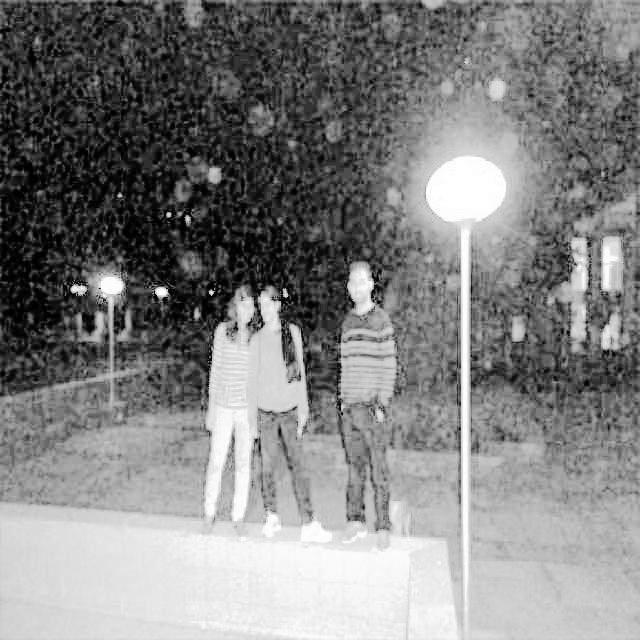Light: (421, 146, 514, 230)
Person: (250, 277, 336, 546), (337, 255, 400, 551), (198, 281, 259, 540)
